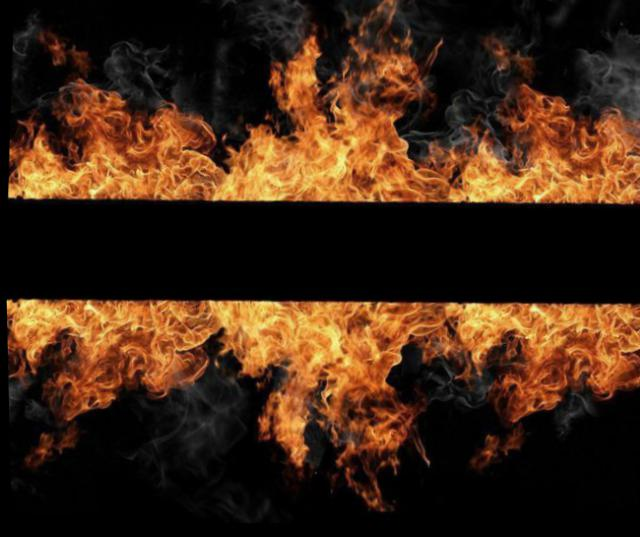fire: (396, 292, 639, 360), (213, 123, 405, 207), (401, 151, 639, 218), (208, 294, 400, 376), (34, 292, 211, 350), (57, 148, 216, 204), (509, 112, 639, 170), (498, 345, 639, 396), (264, 36, 329, 133), (48, 335, 115, 417), (112, 335, 205, 394), (57, 76, 126, 155), (261, 365, 311, 468), (320, 370, 381, 453), (322, 73, 398, 134), (124, 108, 212, 159), (6, 115, 56, 200), (494, 86, 564, 136), (5, 295, 40, 370), (427, 129, 494, 167), (339, 450, 378, 510), (375, 395, 408, 461), (346, 44, 412, 77), (493, 388, 556, 419), (358, 0, 397, 45), (486, 36, 510, 77), (456, 346, 486, 377), (23, 430, 51, 463), (41, 29, 63, 64), (419, 346, 458, 364), (475, 437, 496, 469), (512, 56, 535, 82), (53, 423, 73, 451), (500, 430, 520, 457), (69, 47, 88, 73)
